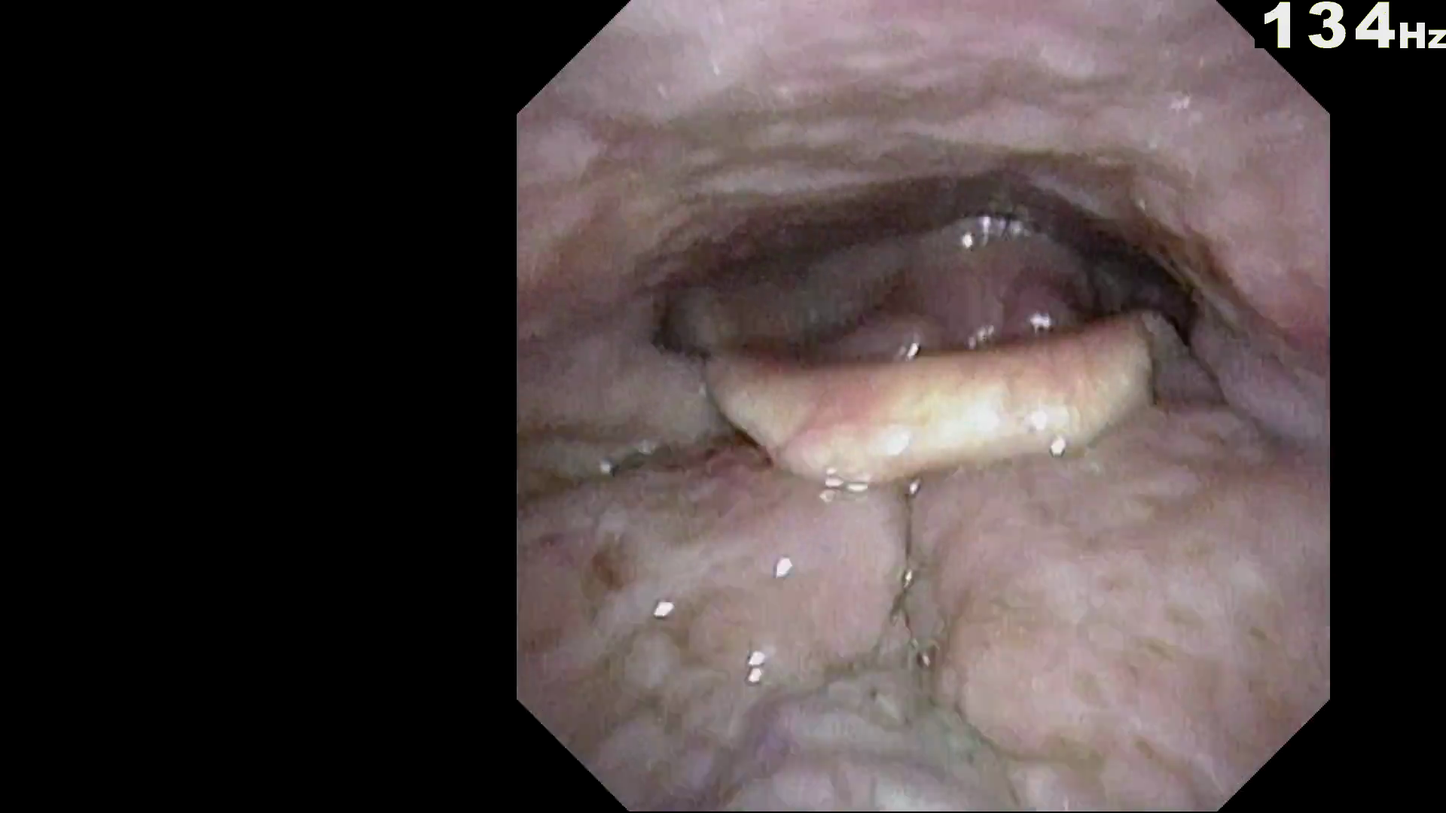epiglottis: (706, 349, 1245, 513)
